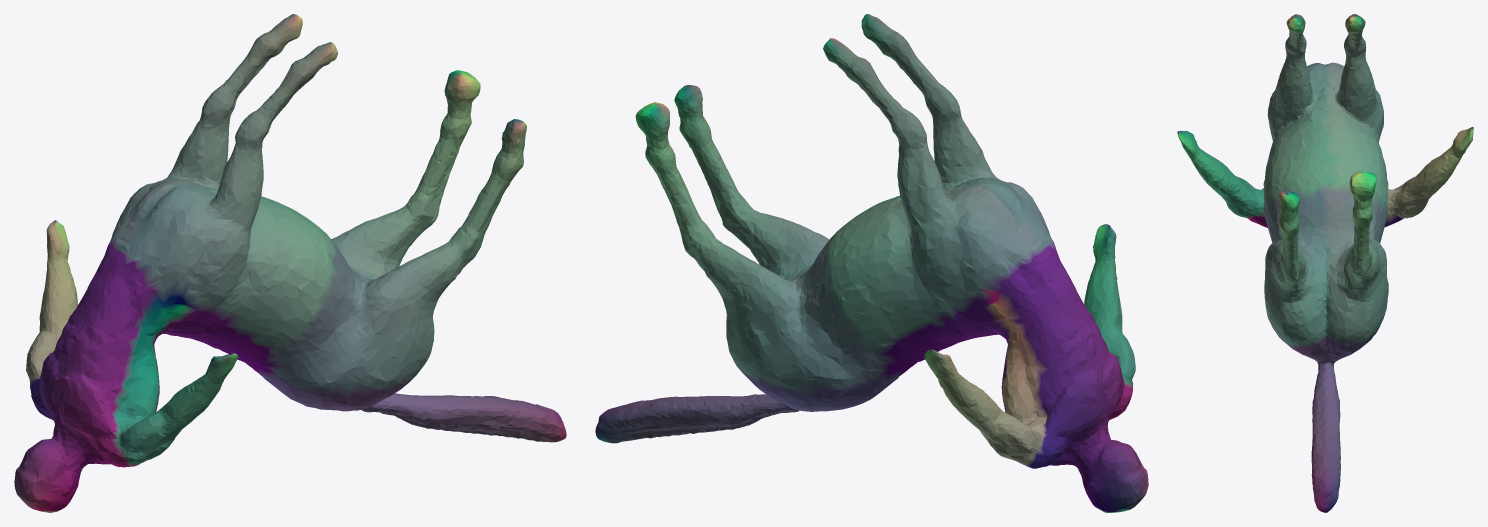
File: centaur-9.off.obj
The picture shows the model from 3 angles, left to right: view 1: azimuth 30°, elevation 25°; view 2: azimuth 150°, elevation 25°; view 3: azimuth 270°, elevation 25°; orthographic projection. The views are drawn at different scales.
Bounding box in the file's own units: 1.31 × 1.08 × 0.7333.
